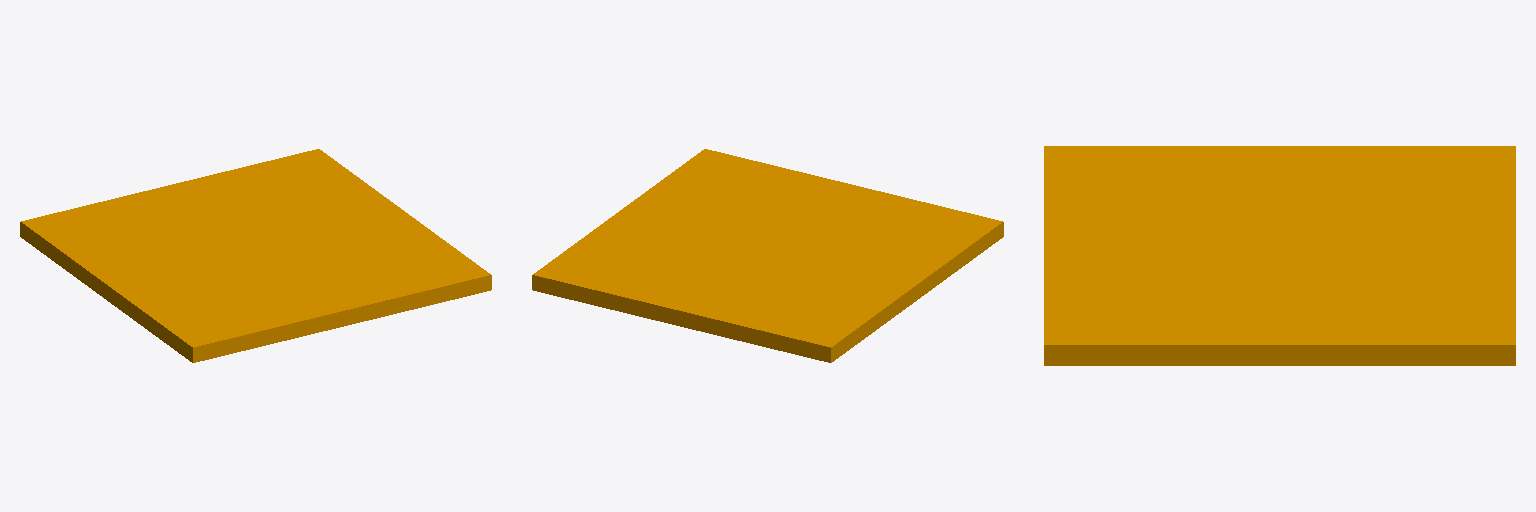
The robot description file, URDF, robot "table":
<robot name="table">

  
  
  
  <link name="table">

    <!-- rosrun gazebo_ros spawn_model -file $(rospack find ur5_single_arm_tufts)/urdf/objects/table.urdf -urdf -x 0.5 -y -0 -z 0.75 -model table -->
    
    <inertial>
      <origin xyz="0.0 0 0" rpy="0 0 0" />
      <mass value="1"/>
      <inertia
        ixx="0.07" ixy="0.0" ixz="0.0"
        iyy="0.40" iyz="0.0"
        izz="0.33"/>
    </inertial>

    <visual>
      <geometry>
        <box size="1 1 0.05"/>
      </geometry>
    </visual>

    <collision>
      <geometry>
        <box size="1 1 0.05"/>
      </geometry>
    </collision>

  </link>
  
  
  

  <gazebo reference="table">
    <material>Gazebo/Yellow</material>
  </gazebo> 

  <gazebo>
    <static>true</static>
  </gazebo>

</robot>

--- Render facts (derived) ---
3 views of the same robot in one strip: view 1: azimuth 30°, elevation 25°; view 2: azimuth 150°, elevation 25°; view 3: azimuth 270°, elevation 25° (orthographic).
Robot: table — 1 links, 0 joints (none); root link table; default pose: all joints at 0.
Visible links, largest first — view 1: table; view 2: table; view 3: table.
Link boxes in pixels (x1,y1,x2,y2): table: (20,149,491,362); table: (532,149,1003,362); table: (1044,146,1515,365).
Bounding box of the posed robot: 1 × 1 × 0.05 m (x, y, z).
Geometry: primitives only (box / cylinder / sphere), no mesh files.
